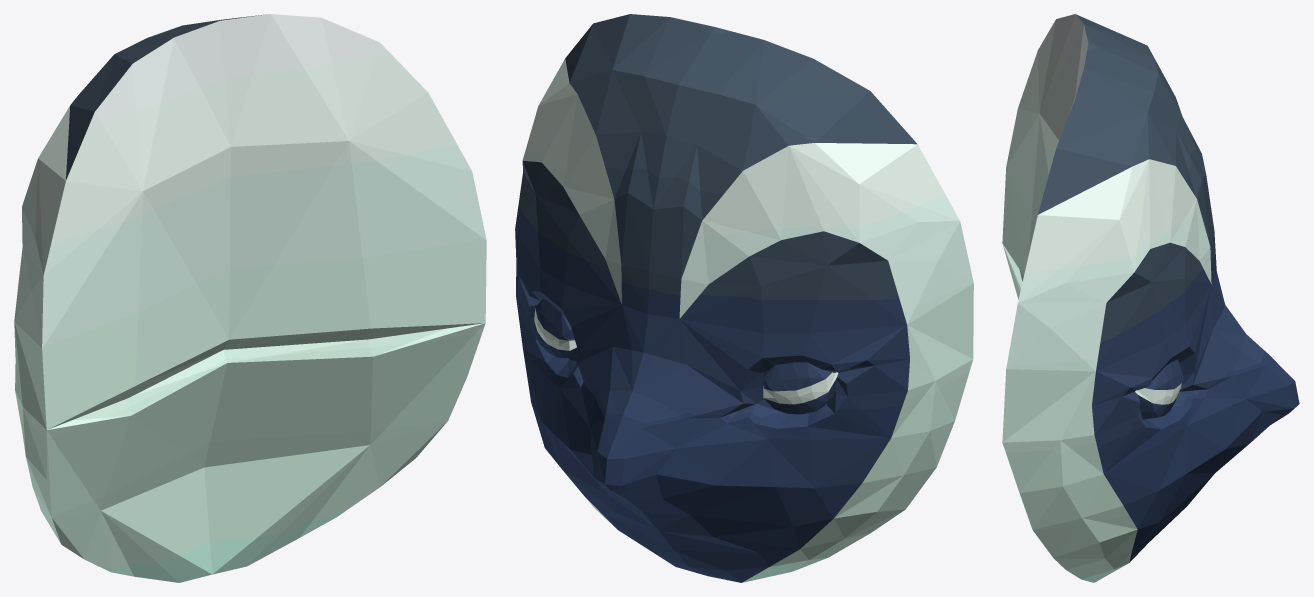
Rendered from CharSkyKid_Mask_AP14Focused_01.glb.
3 renders of one model, left to right at view 1: azimuth 30°, elevation 25°; view 2: azimuth 150°, elevation 25°; view 3: azimuth 270°, elevation 25°, orthographic. The views are drawn at different scales.
Parts seen in each view (by area): view 1: CharSkyKid_Mask_AP14Focused_01; view 2: CharSkyKid_Mask_AP14Focused_01; view 3: CharSkyKid_Mask_AP14Focused_01.
Boxes of the visible parts, bbox=[...] form: CharSkyKid_Mask_AP14Focused_01: bbox=[14, 14, 486, 582]; CharSkyKid_Mask_AP14Focused_01: bbox=[515, 14, 973, 582]; CharSkyKid_Mask_AP14Focused_01: bbox=[1002, 14, 1299, 582].
Bounding box in the file's own units: 2.15 × 2.59 × 1.34.
Materials: 1 (1 with a texture image).
